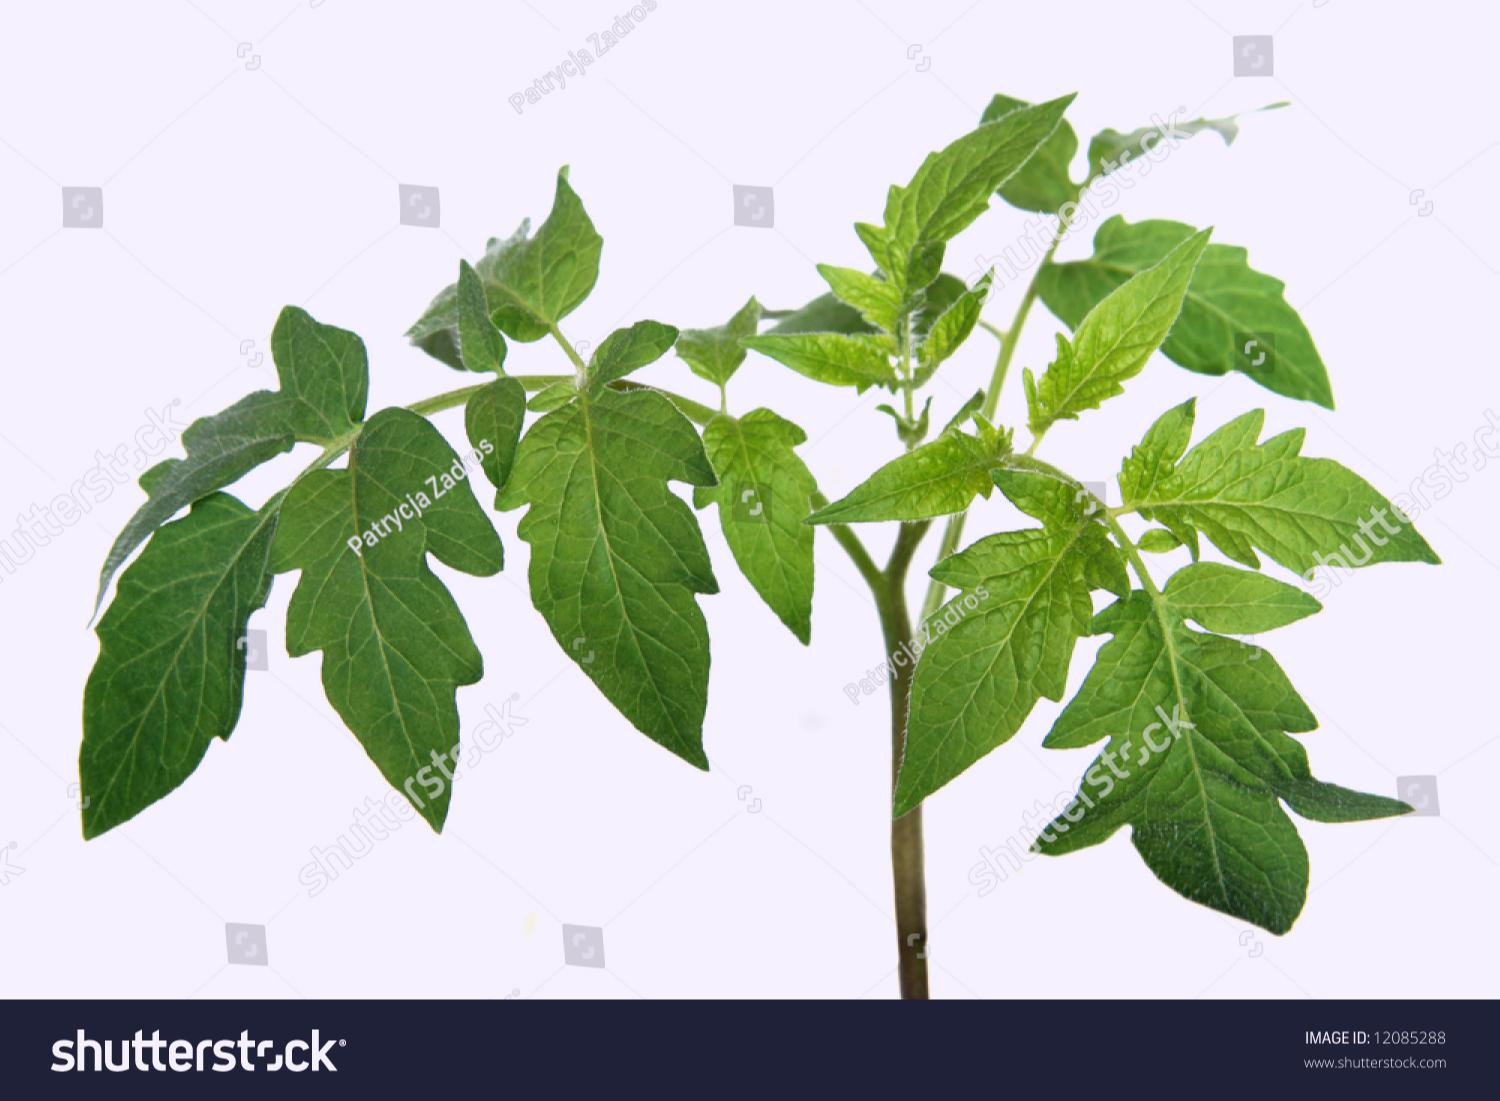Tomato leaf: (280, 410, 593, 939), (1080, 542, 1370, 976), (521, 330, 764, 817), (1108, 384, 1487, 662), (70, 459, 312, 860), (820, 87, 1059, 437), (991, 198, 1232, 504), (896, 504, 1104, 812)
